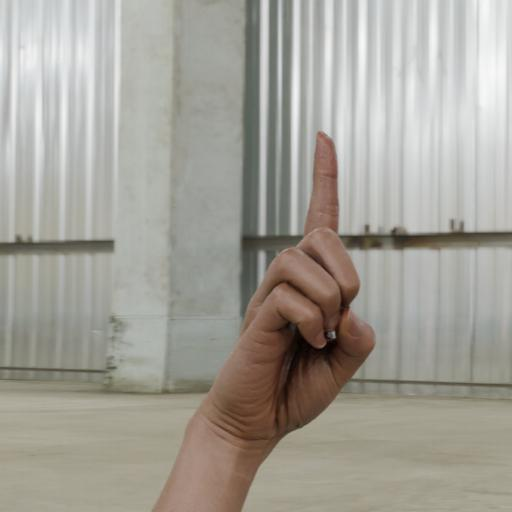D: (186, 126, 384, 446)
